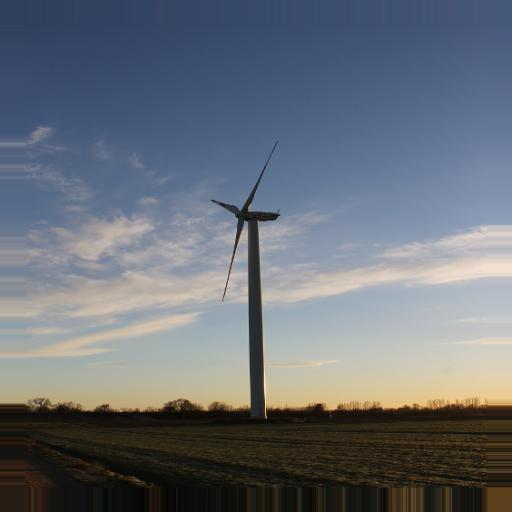wind turbine: (206, 138, 284, 425)
